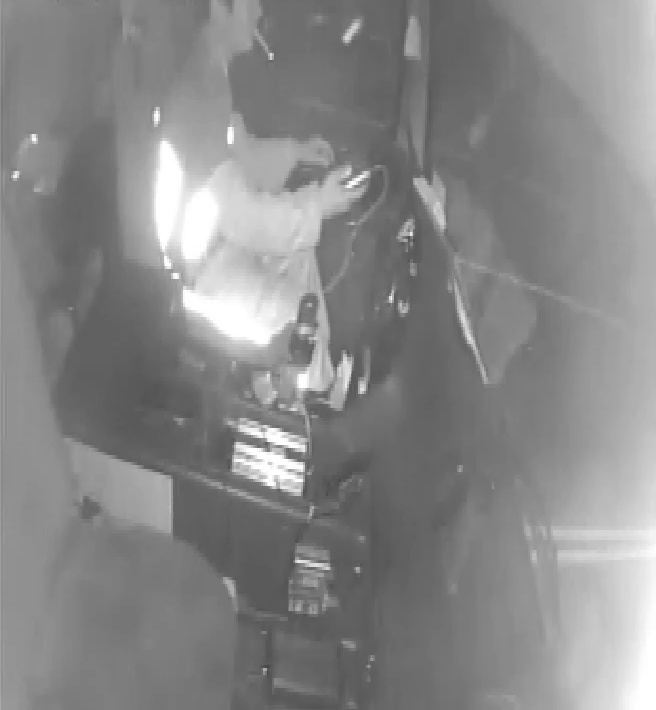cellphone: (328, 168, 371, 191)
